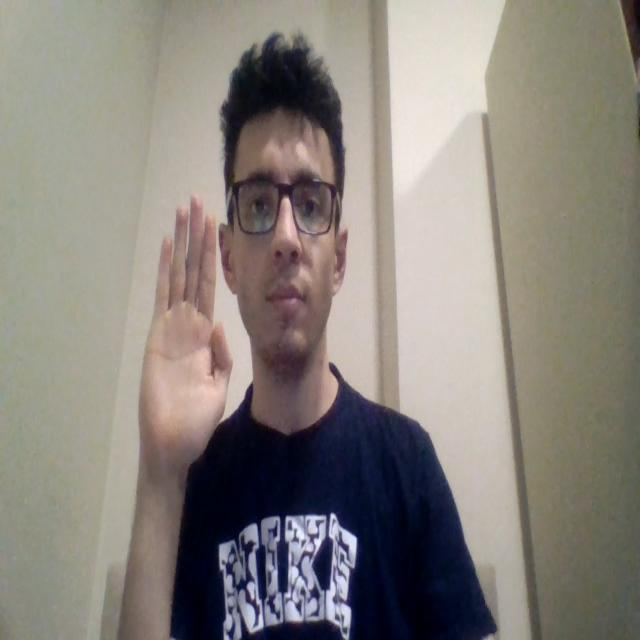hello: (137, 193, 233, 483)
